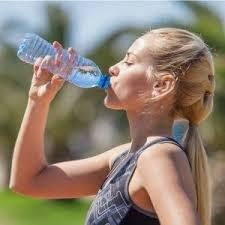Drinking: (29, 32, 174, 109)
